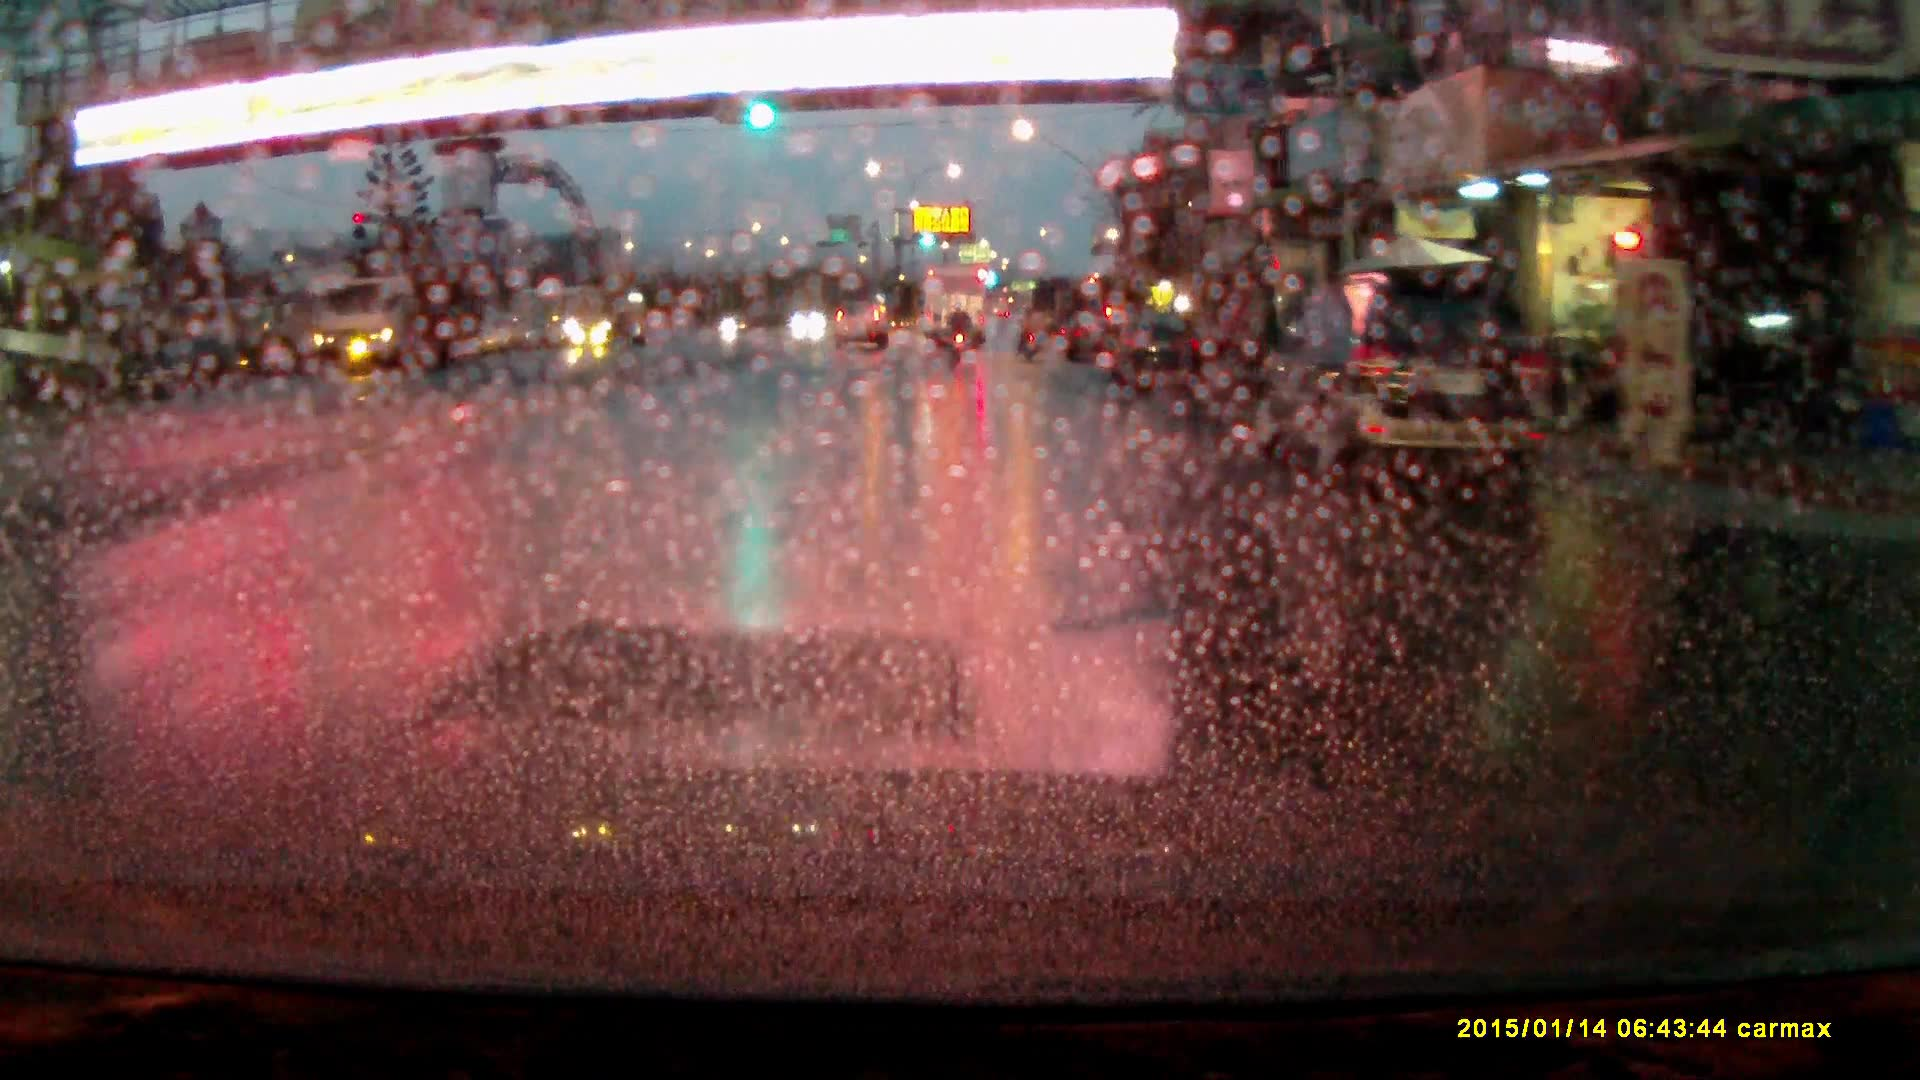rider: (948, 297, 974, 355)
vehicle: (1251, 263, 1562, 486), (1696, 287, 1851, 438), (306, 275, 469, 375), (1108, 308, 1206, 390), (562, 289, 656, 349), (921, 267, 991, 345), (1062, 308, 1129, 364), (833, 279, 890, 327)
